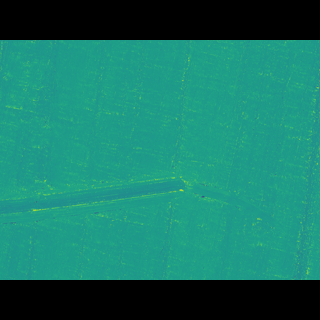Loch: (0, 164, 290, 215)
